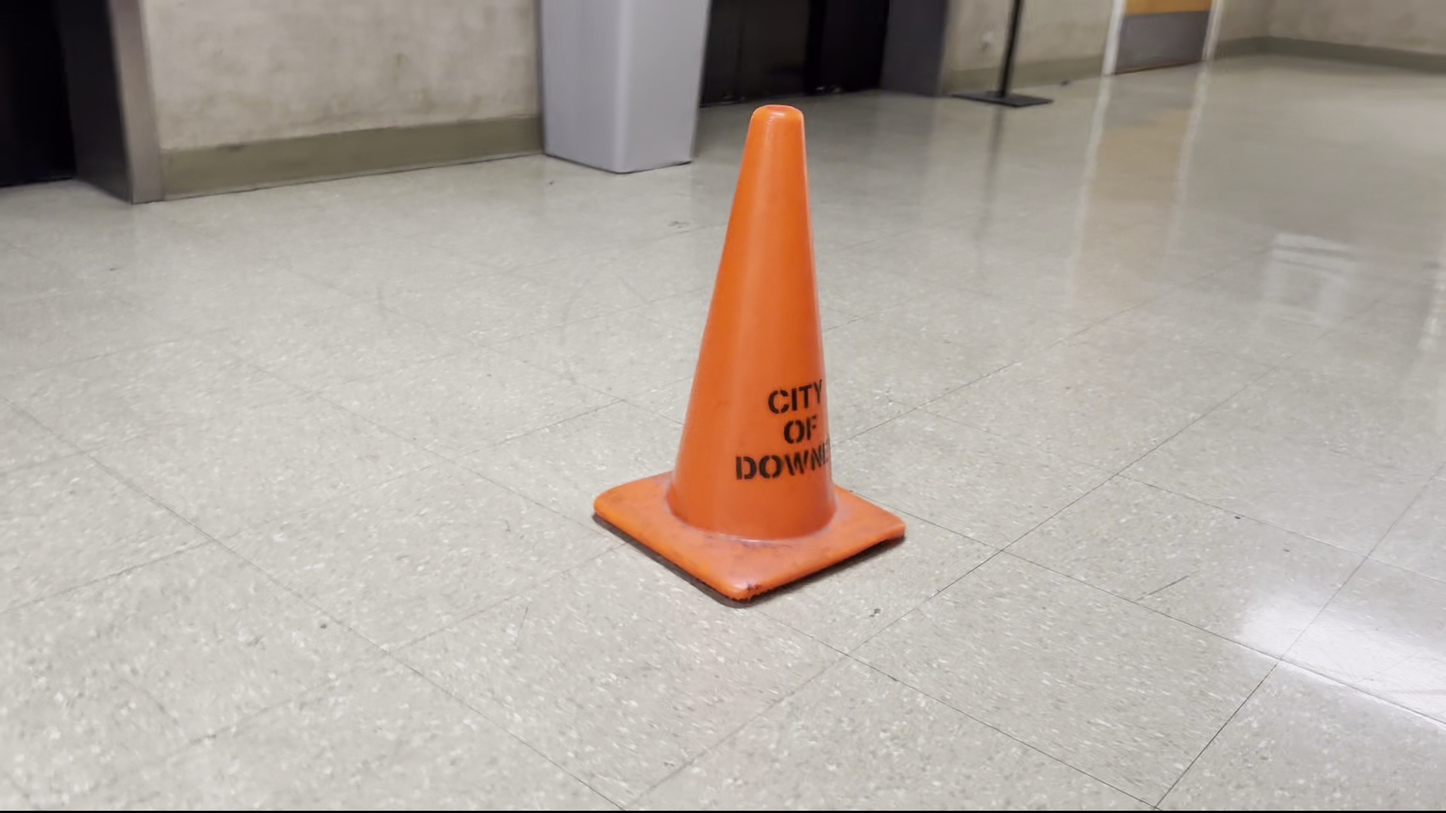traffic_cone: (592, 102, 907, 603)
